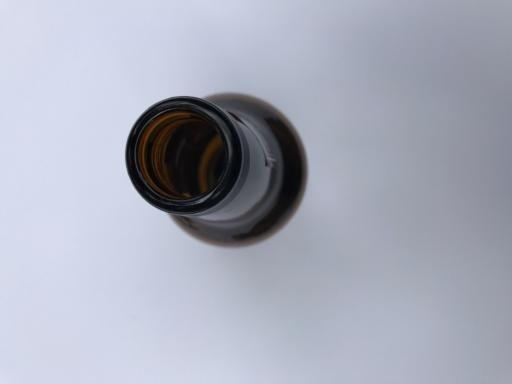botolkaca: (126, 93, 309, 248)
